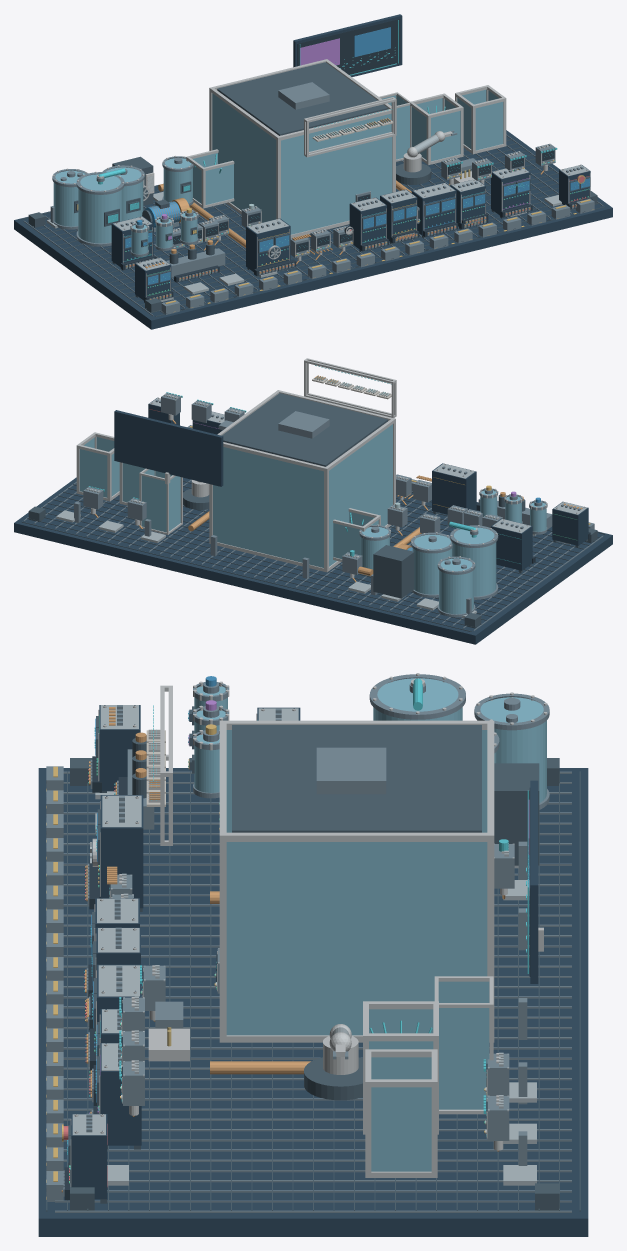
File: Level76_Complete_ArtKit_Showcase.glb
The picture shows the model from 3 angles, top to bottom: view 1: azimuth 30°, elevation 25°; view 2: azimuth 150°, elevation 25°; view 3: azimuth 270°, elevation 25°; orthographic projection. The views are drawn at different scales.
Visible parts, largest first — view 1: Level76_Complete_ArtKit_Showcase_Node_0000, Level76_Complete_ArtKit_Showcase_Node_0197, Level76_Complete_ArtKit_Showcase_Node_0208, Level76_Complete_ArtKit_Showcase_Node_0198, Level76_Complete_ArtKit_Showcase_Node_1314, Level76_Complete_ArtKit_Showcase_Node_3604, Level76_Complete_ArtKit_Showcase_Node_3025, Level76_Complete_ArtKit_Showcase_Node_3126, Level76_Complete_ArtKit_Showcase_Node_1659, Level76_Complete_ArtKit_Showcase_Node_2911, Level76_Complete_ArtKit_Showcase_Node_3493, Level76_Complete_ArtKit_Showcase_Node_1971 (+20 smaller); view 2: Level76_Complete_ArtKit_Showcase_Node_0000, Level76_Complete_ArtKit_Showcase_Node_0196, Level76_Complete_ArtKit_Showcase_Node_0208, Level76_Complete_ArtKit_Showcase_Node_3603, Level76_Complete_ArtKit_Showcase_Node_0198, Level76_Complete_ArtKit_Showcase_Node_1375, Level76_Complete_ArtKit_Showcase_Node_1314, Level76_Complete_ArtKit_Showcase_Node_1659, Level76_Complete_ArtKit_Showcase_Node_3126, Level76_Complete_ArtKit_Showcase_Node_1341, Level76_Complete_ArtKit_Showcase_Node_2258, Level76_Complete_ArtKit_Showcase_Node_1249 (+20 smaller); view 3: Level76_Complete_ArtKit_Showcase_Node_0000, Level76_Complete_ArtKit_Showcase_Node_0199, Level76_Complete_ArtKit_Showcase_Node_0208, Level76_Complete_ArtKit_Showcase_Node_3027, Level76_Complete_ArtKit_Showcase_Node_1252, Level76_Complete_ArtKit_Showcase_Node_1192, Level76_Complete_ArtKit_Showcase_Node_1375, Level76_Complete_ArtKit_Showcase_Node_3126, Level76_Complete_ArtKit_Showcase_Node_1659, Level76_Complete_ArtKit_Showcase_Node_0195, Level76_Complete_ArtKit_Showcase_Node_1314, Level76_Complete_ArtKit_Showcase_Node_3192 (+45 smaller).
Part boxes in pixels (<box>): Level76_Complete_ArtKit_Showcase_Node_0000: <box>14,130,612,329</box>; Level76_Complete_ArtKit_Showcase_Node_0197: <box>281,113,392,234</box>; Level76_Complete_ArtKit_Showcase_Node_0208: <box>217,62,387,135</box>; Level76_Complete_ArtKit_Showcase_Node_0198: <box>212,93,276,222</box>; Level76_Complete_ArtKit_Showcase_Node_1314: <box>78,174,122,243</box>; Level76_Complete_ArtKit_Showcase_Node_3604: <box>297,19,400,74</box>; Level76_Complete_ArtKit_Showcase_Node_3025: <box>475,102,503,150</box>; Level76_Complete_ArtKit_Showcase_Node_3126: <box>53,170,85,226</box>; Level76_Complete_ArtKit_Showcase_Node_1659: <box>246,218,290,271</box>; Level76_Complete_ArtKit_Showcase_Node_2911: <box>431,111,460,161</box>; Level76_Complete_ArtKit_Showcase_Node_3493: <box>491,168,530,215</box>; Level76_Complete_ArtKit_Showcase_Node_1971: <box>349,197,386,249</box>; Level76_Complete_ArtKit_Showcase_Node_0000: <box>14,477,612,644</box>; Level76_Complete_ArtKit_Showcase_Node_0196: <box>213,447,323,567</box>; Level76_Complete_ArtKit_Showcase_Node_0208: <box>222,393,387,466</box>; Level76_Complete_ArtKit_Showcase_Node_3603: <box>114,410,223,486</box>; Level76_Complete_ArtKit_Showcase_Node_0198: <box>329,424,392,566</box>; Level76_Complete_ArtKit_Showcase_Node_1375: <box>373,545,414,598</box>; Level76_Complete_ArtKit_Showcase_Node_1314: <box>452,527,496,596</box>; Level76_Complete_ArtKit_Showcase_Node_1659: <box>432,463,476,514</box>; Level76_Complete_ArtKit_Showcase_Node_3126: <box>439,558,473,614</box>; Level76_Complete_ArtKit_Showcase_Node_1341: <box>412,534,451,594</box>; Level76_Complete_ArtKit_Showcase_Node_2258: <box>491,518,532,570</box>; Level76_Complete_ArtKit_Showcase_Node_1249: <box>141,475,166,532</box>; Level76_Complete_ArtKit_Showcase_Node_0000: <box>38,768,588,1236</box>; Level76_Complete_ArtKit_Showcase_Node_0199: <box>226,842,487,1035</box>; Level76_Complete_ArtKit_Showcase_Node_0208: <box>232,725,481,832</box>; Level76_Complete_ArtKit_Showcase_Node_3027: <box>371,1087,431,1171</box>; Level76_Complete_ArtKit_Showcase_Node_1252: <box>439,1008,489,1109</box>; Level76_Complete_ArtKit_Showcase_Node_1192: <box>316,747,386,794</box>; Level76_Complete_ArtKit_Showcase_Node_1375: <box>494,763,539,865</box>; Level76_Complete_ArtKit_Showcase_Node_3126: <box>480,697,546,802</box>; Level76_Complete_ArtKit_Showcase_Node_1659: <box>100,795,143,908</box>; Level76_Complete_ArtKit_Showcase_Node_0195: <box>220,832,493,841</box>; Level76_Complete_ArtKit_Showcase_Node_1314: <box>373,678,462,720</box>; Level76_Complete_ArtKit_Showcase_Node_3192: <box>71,1114,107,1199</box>.
Bounding box in the file's own units: 19.6 × 5.73 × 10.1.
